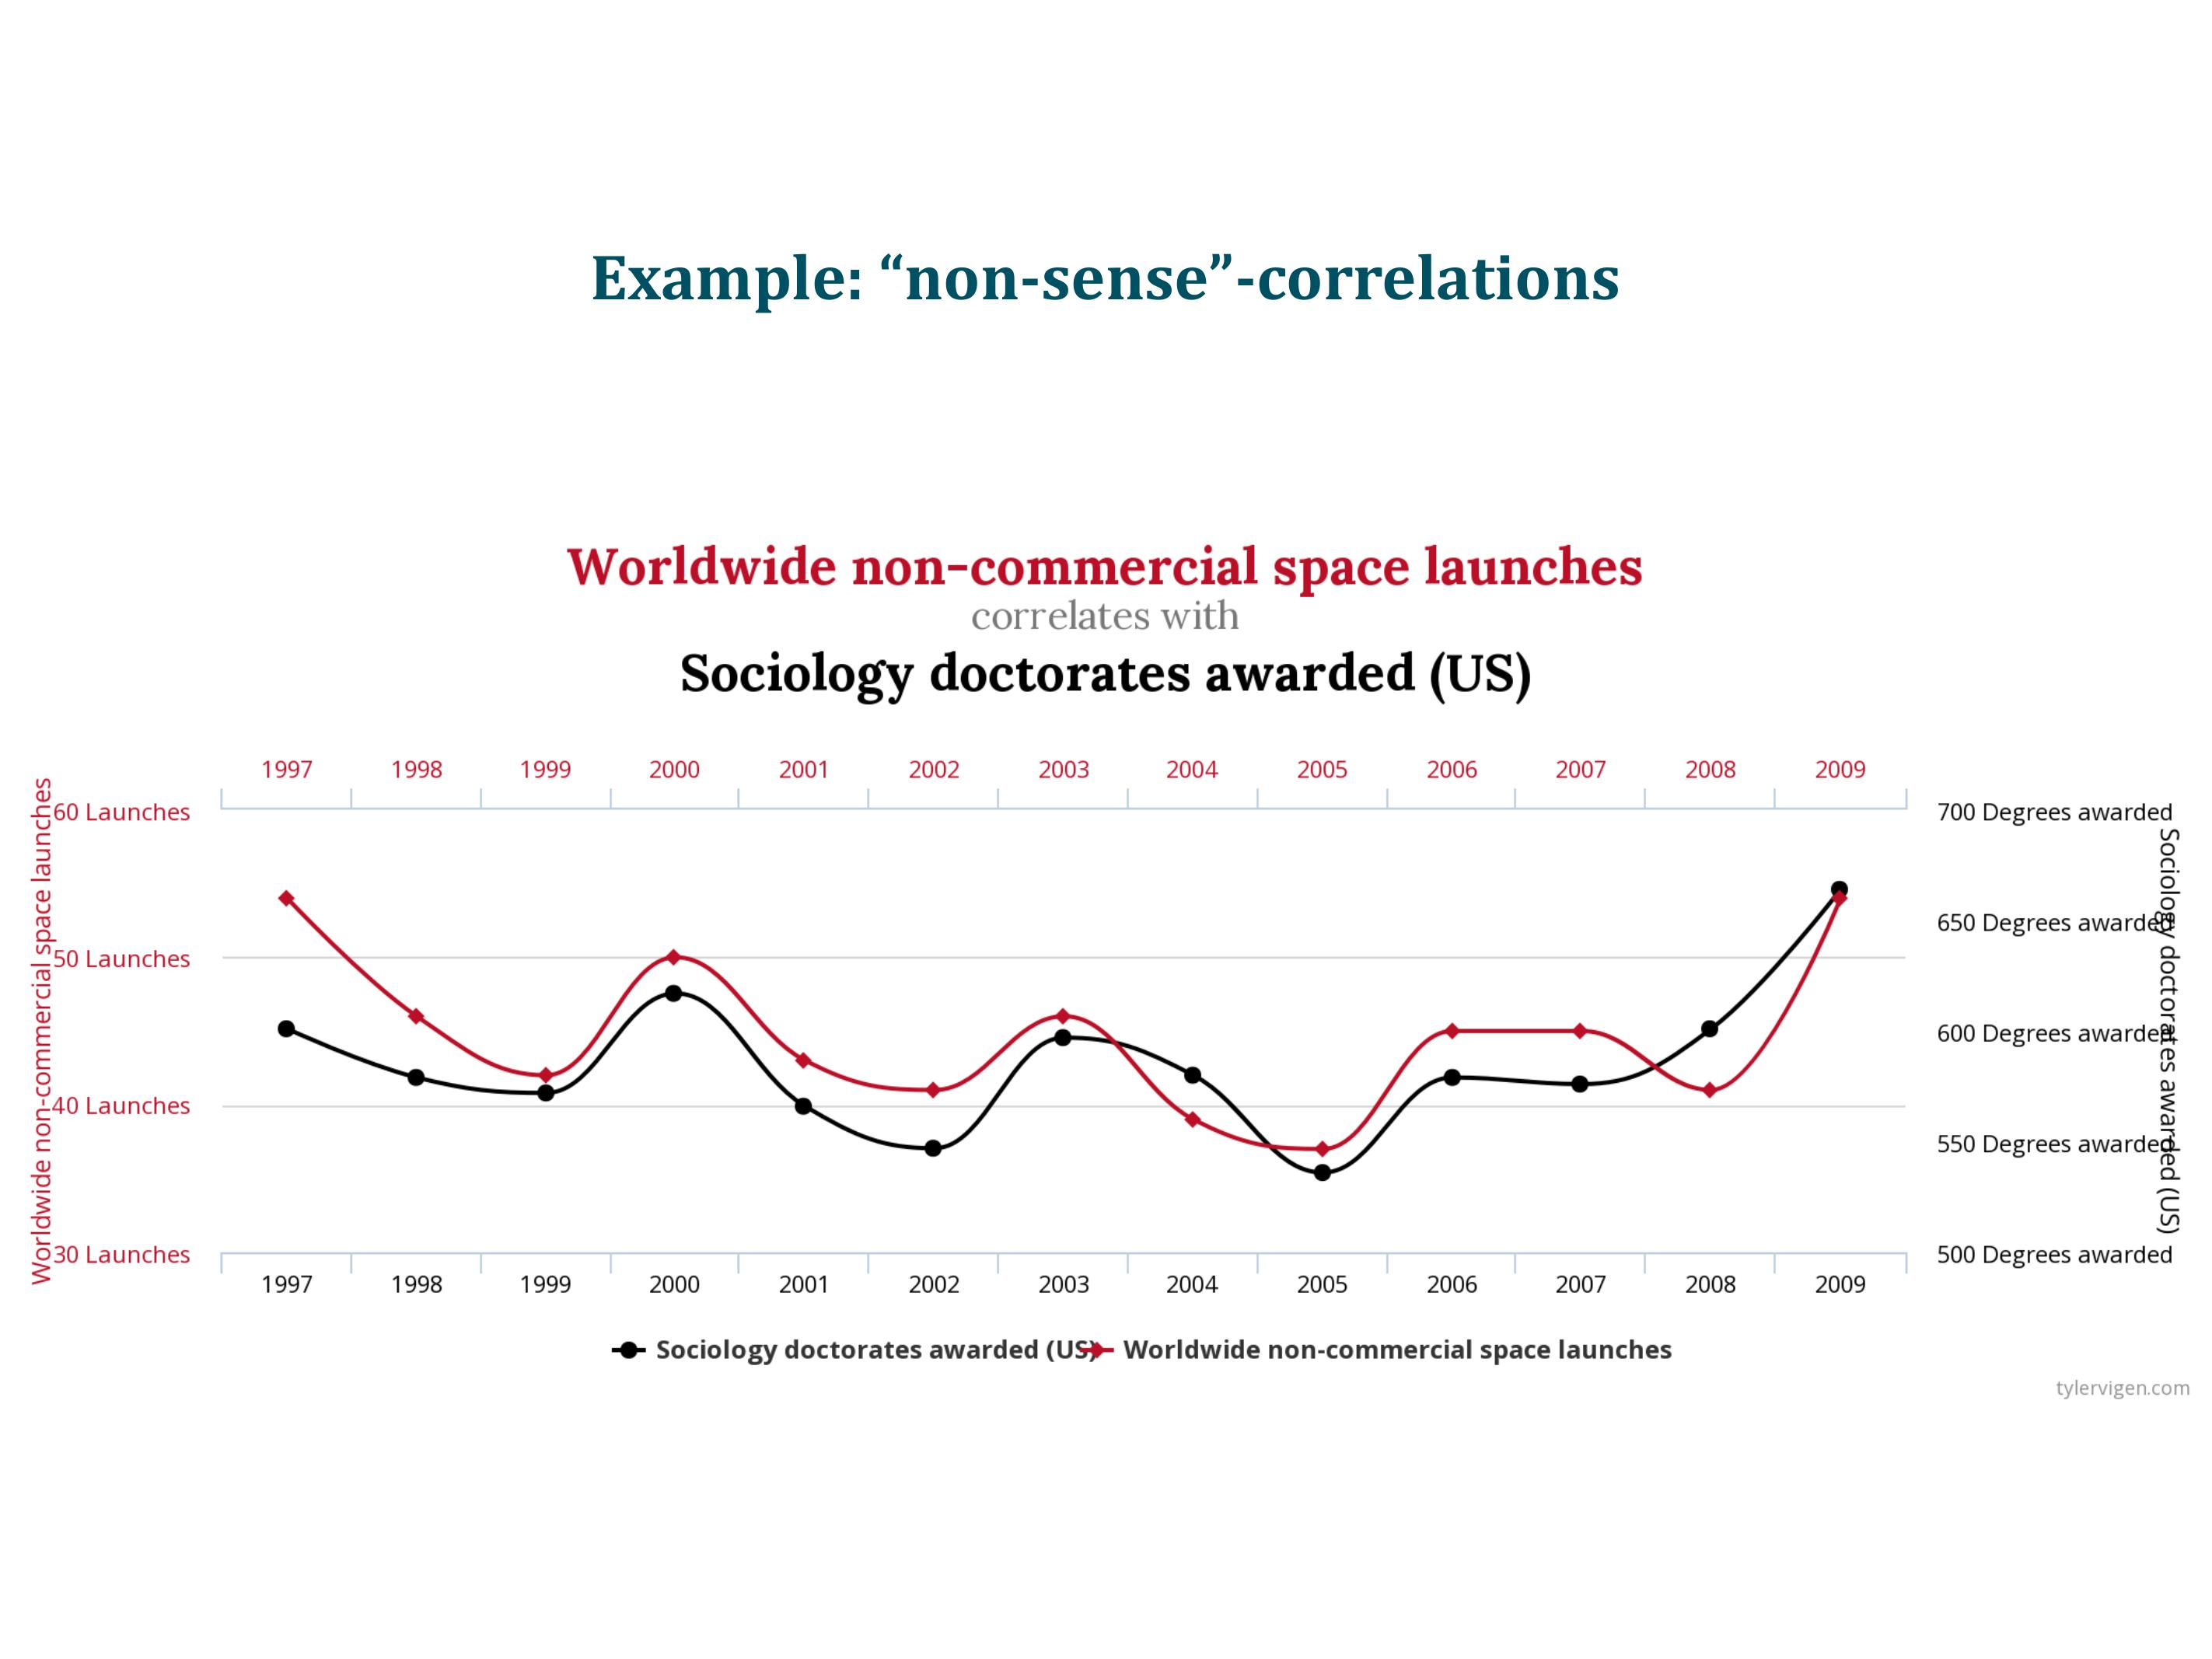Title: (565, 230, 1630, 317)
